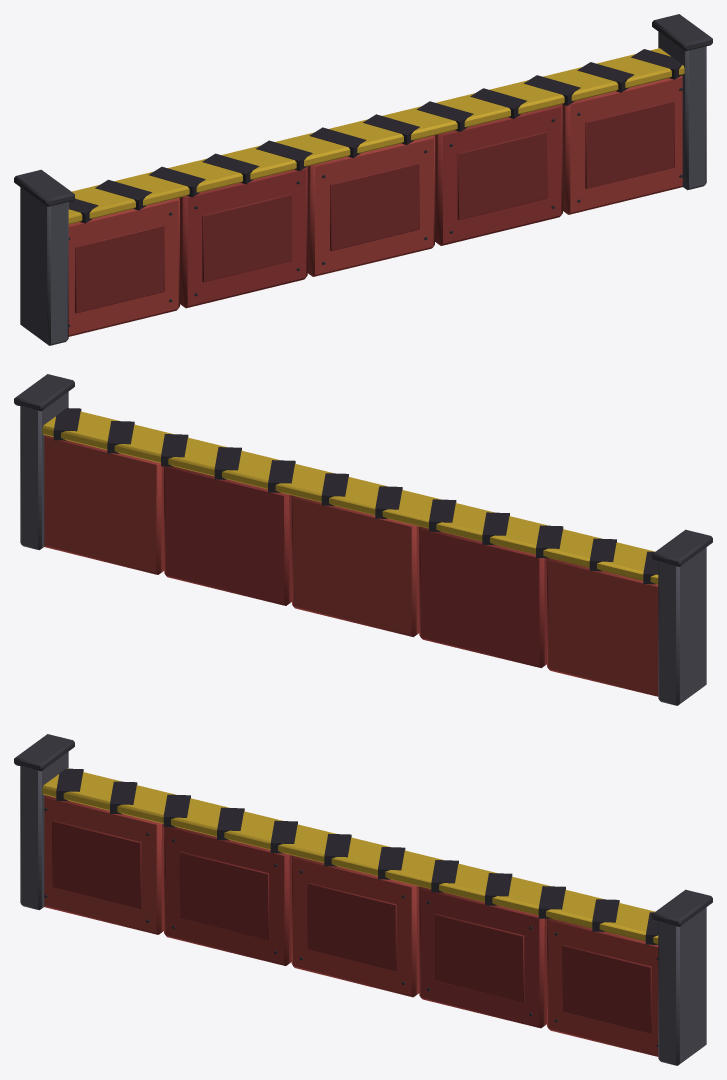
Rendered from barrier_block.glb.
3 renders of one model, top to bottom at view 1: azimuth 30°, elevation 25°; view 2: azimuth 150°, elevation 25°; view 3: azimuth 330°, elevation 25°, orthographic.
Parts seen in each view (by area): view 1: barrier; view 2: barrier; view 3: barrier.
Part boxes in pixels (bbox=[...]): barrier: bbox=[14, 14, 712, 345]; barrier: bbox=[14, 374, 712, 705]; barrier: bbox=[14, 734, 712, 1065].
Size of the model in its own units: 10.46 by 2.25 by 0.92.
